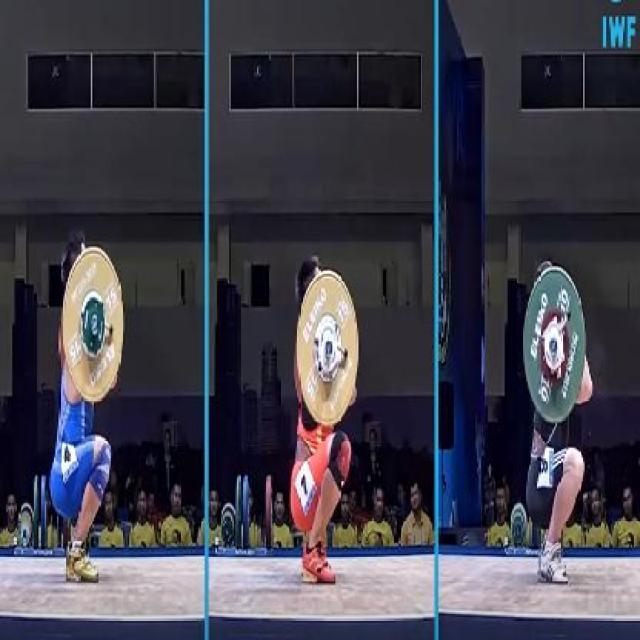barbell: (291, 266, 362, 437), (519, 264, 592, 430), (62, 244, 131, 413)
